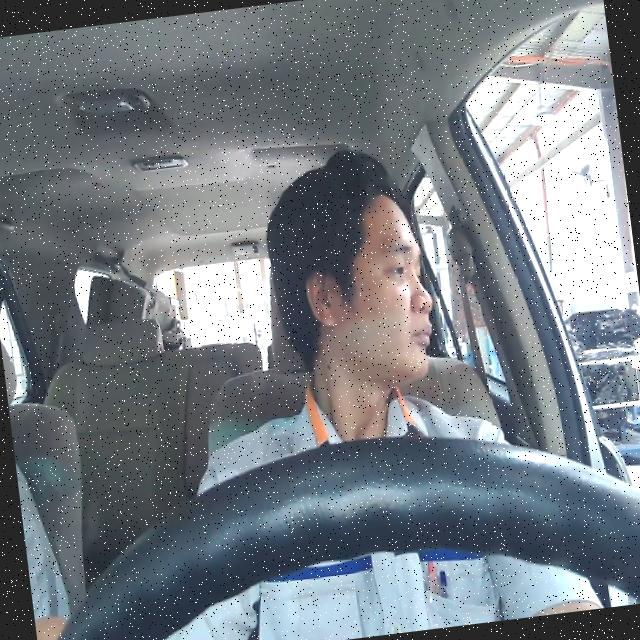seeing_right: (290, 184, 440, 396)
